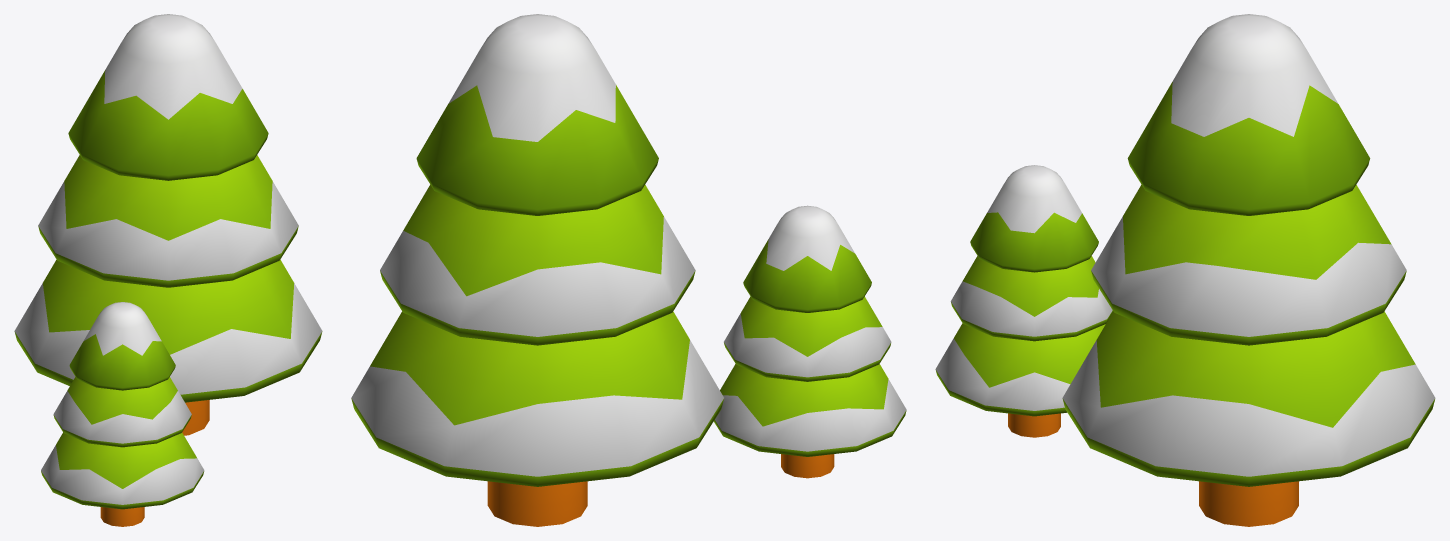
The model's file is Plant_Tree_Ice_01A.fbx.
The picture shows the model from 3 angles, left to right: view 1: azimuth 30°, elevation 25°; view 2: azimuth 150°, elevation 25°; view 3: azimuth 270°, elevation 25°; orthographic projection. The views are drawn at different scales.
Visible parts, largest first — view 1: Plant_Tree_Ice_01A; view 2: Plant_Tree_Ice_01A; view 3: Plant_Tree_Ice_01A.
Part boxes in pixels (bbox=[...]): Plant_Tree_Ice_01A: bbox=[14, 14, 322, 526]; Plant_Tree_Ice_01A: bbox=[351, 14, 906, 526]; Plant_Tree_Ice_01A: bbox=[935, 14, 1435, 526].
Size of the model in its own units: 171 by 192 by 181.
